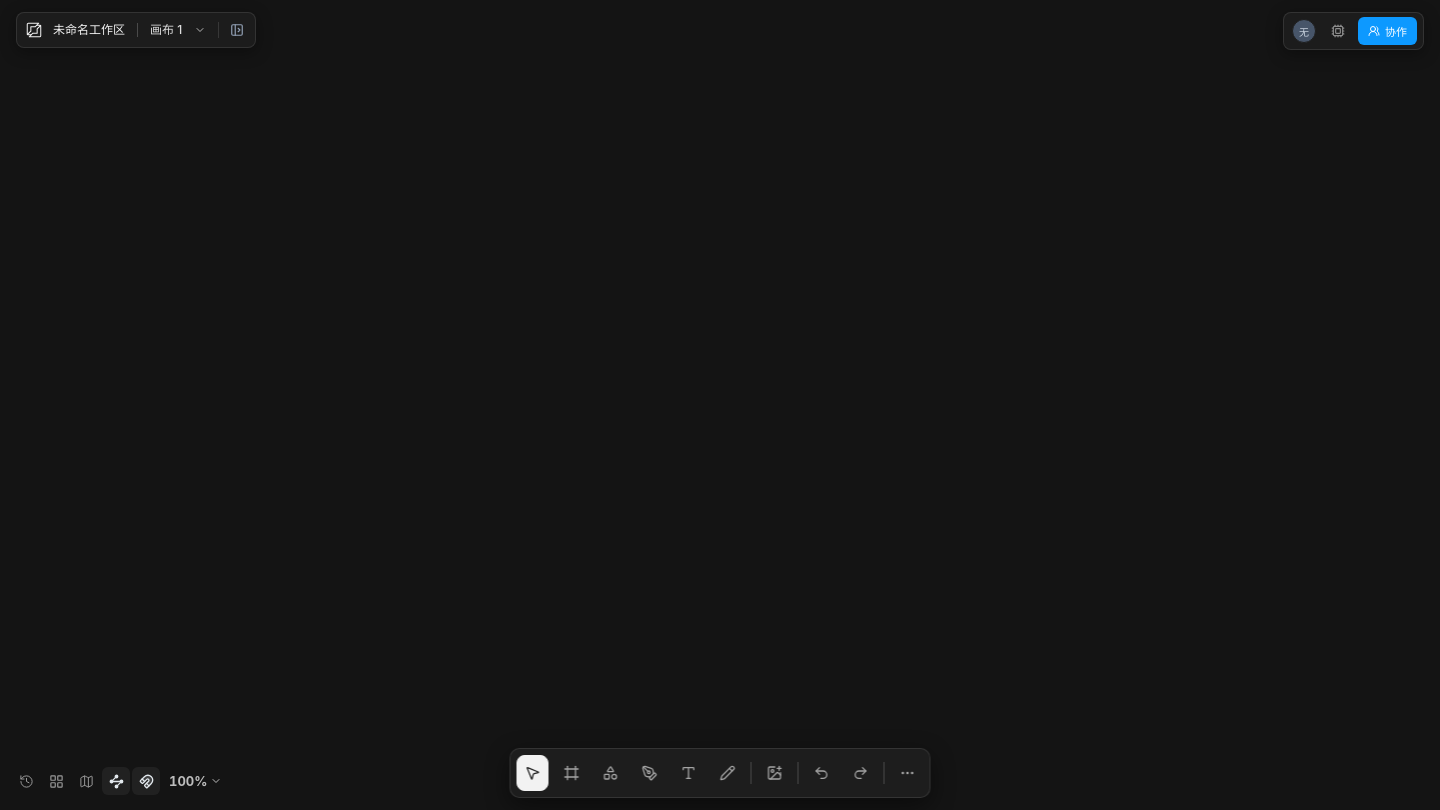
canvas application integration › opens add-node at a blank-pane double click and exits it on right click
Double-click the element with class "react-flow__pane": (720, 405) [0,0,1439,809]
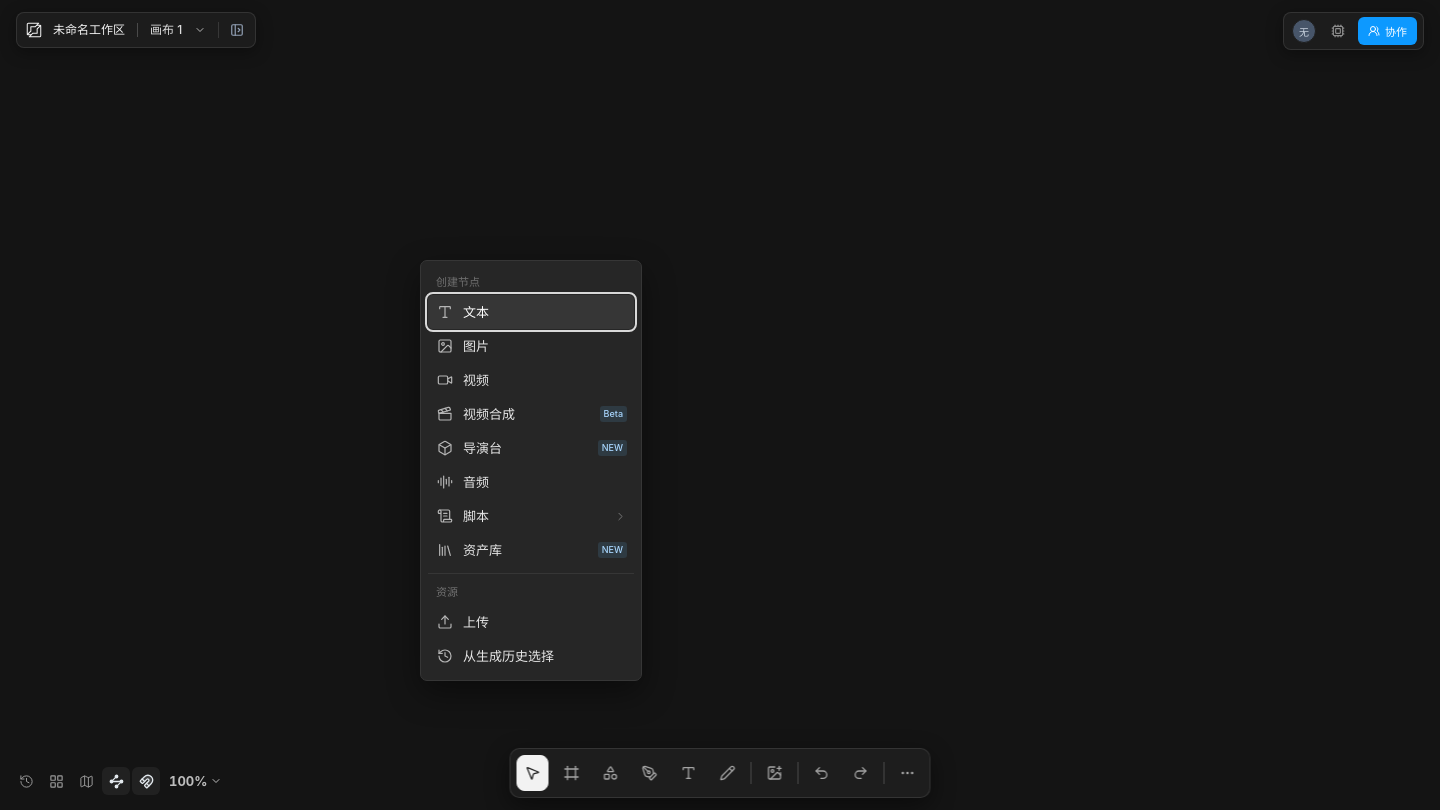
Expected: the menu named "添加节点" is shown, [420,260,642,681]
Right-click the element with class "react-flow__pane": (720, 405) [0,0,1439,809]
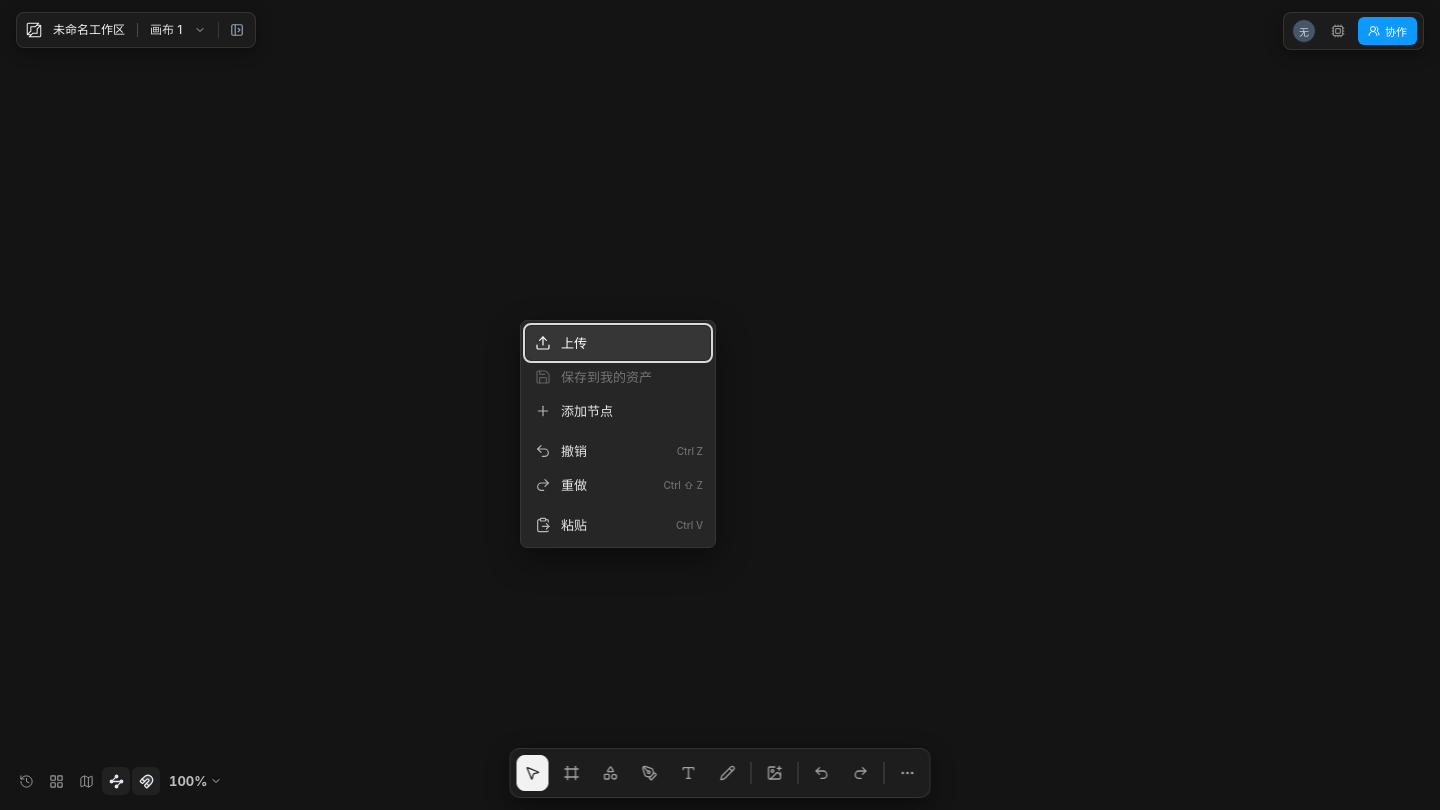
Expected: the menu named "画布快捷菜单" is shown, [520,320,716,548]
